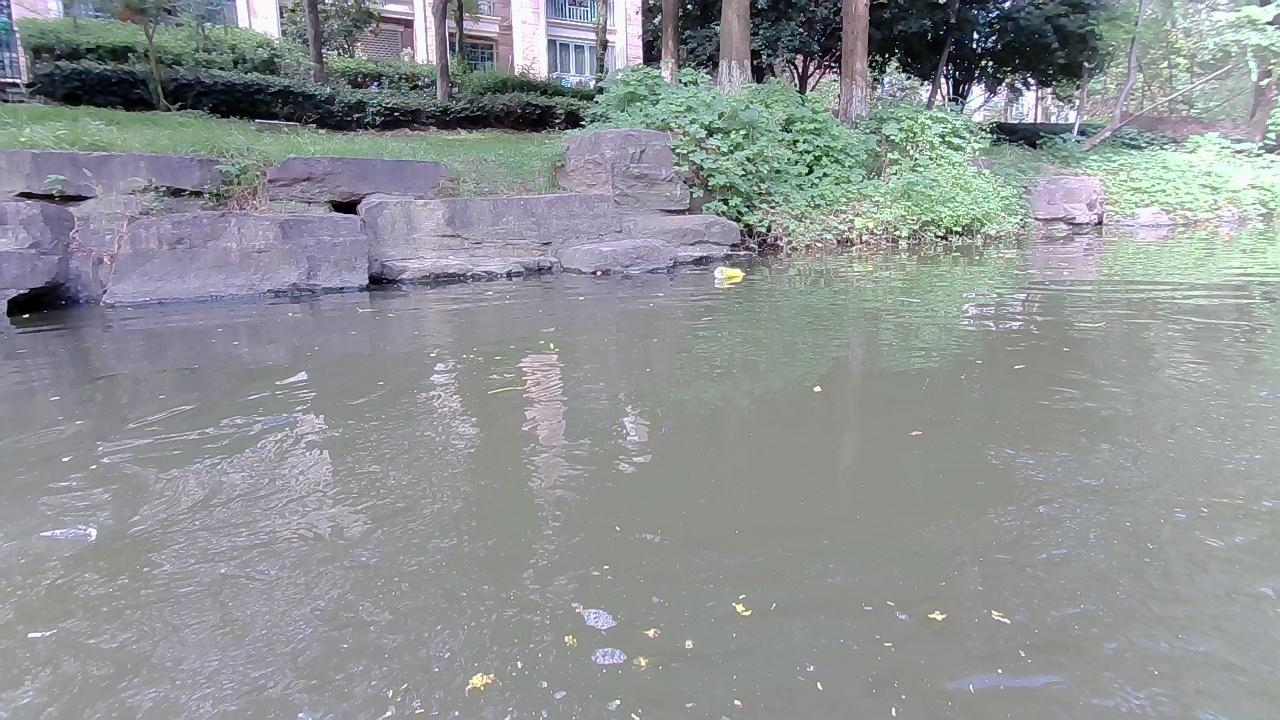bottle: (711, 265, 748, 283)
